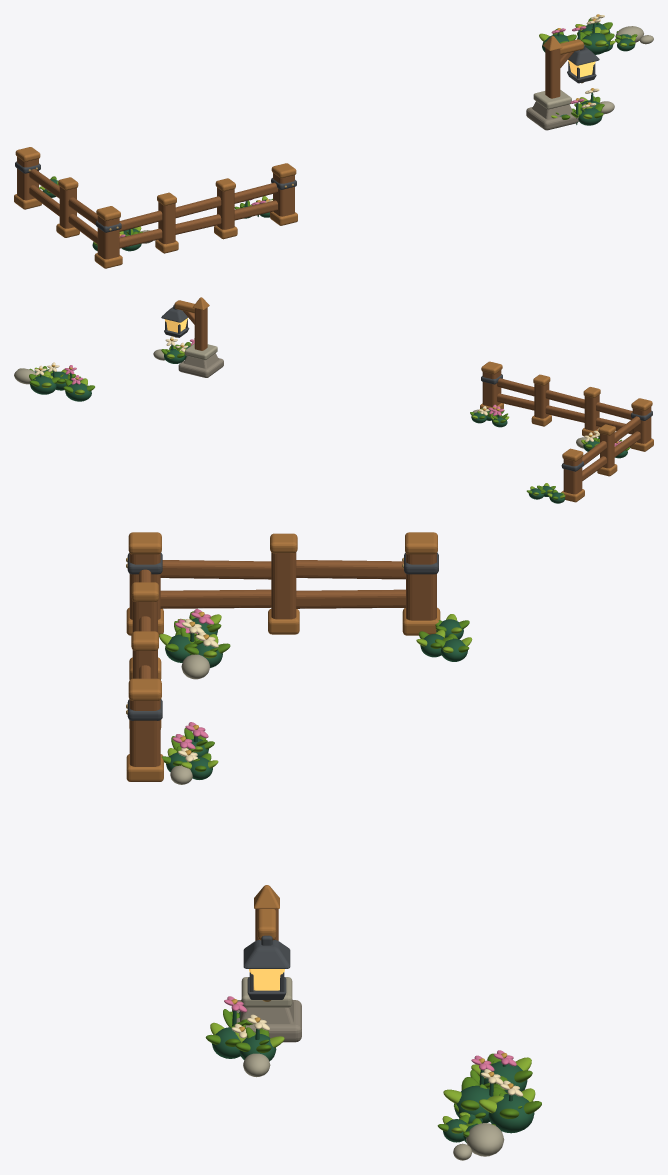
Rendered from courtyard-study.glb.
The picture shows the model from 3 angles, top to bottom: view 1: azimuth 30°, elevation 25°; view 2: azimuth 150°, elevation 25°; view 3: azimuth 270°, elevation 25°; orthographic projection. The views are drawn at different scales.
Parts seen in each view (by area): view 1: Yard_timber, Yard_cap, Yard_leaf_dark, Yard_iron, Yard_stone_light, Yard_leaf, Yard_stone, Yard_leaf_light; view 2: Yard_timber, Yard_cap, Yard_leaf_dark, Yard_leaf, Yard_iron, Yard_stone_light, Yard_stone, Yard_leaf_light, Yard_cream; view 3: Yard_timber, Yard_cap, Yard_leaf_dark, Yard_leaf, Yard_stone_light, Yard_iron, Yard_leaf_light, Yard_stone, Yard_petal, Yard_cream.
Boxes of the visible parts, x1=… form: Yard_timber: x1=17, y1=48, x2=574, y2=259; Yard_cap: x1=14, y1=36, x2=583, y2=268; Yard_leaf_dark: x1=42, y1=19, x2=635, y2=251; Yard_iron: x1=15, y1=44, x2=599, y2=232; Yard_stone_light: x1=141, y1=26, x2=653, y2=243; Yard_leaf: x1=39, y1=17, x2=637, y2=245; Yard_stone: x1=526, y1=101, x2=578, y2=130; Yard_leaf_light: x1=40, y1=24, x2=635, y2=234; Yard_timber: x1=183, y1=307, x2=651, y2=494; Yard_cap: x1=174, y1=297, x2=653, y2=502; Yard_leaf_dark: x1=30, y1=344, x2=627, y2=503; Yard_leaf: x1=29, y1=342, x2=630, y2=499; Yard_iron: x1=161, y1=304, x2=652, y2=471; Yard_stone_light: x1=14, y1=343, x2=586, y2=448; Yard_stone: x1=178, y1=353, x2=223, y2=377; Yard_leaf_light: x1=34, y1=348, x2=622, y2=498; Yard_cream: x1=34, y1=336, x2=599, y2=441; Yard_timber: x1=129, y1=552, x2=436, y2=940; Yard_cap: x1=126, y1=532, x2=440, y2=940; Yard_leaf_dark: x1=165, y1=618, x2=534, y2=1142; Yard_leaf: x1=161, y1=611, x2=541, y2=1136; Yard_stone_light: x1=170, y1=654, x2=504, y2=1160; Yard_iron: x1=127, y1=552, x2=438, y2=999; Yard_leaf_light: x1=159, y1=614, x2=535, y2=1133; Yard_stone: x1=232, y1=999, x2=301, y2=1042; Yard_petal: x1=172, y1=609, x2=516, y2=1071; Yard_cream: x1=178, y1=619, x2=523, y2=1096.
Size of the model in its own units: 13.65 by 1.76 by 4.45.
